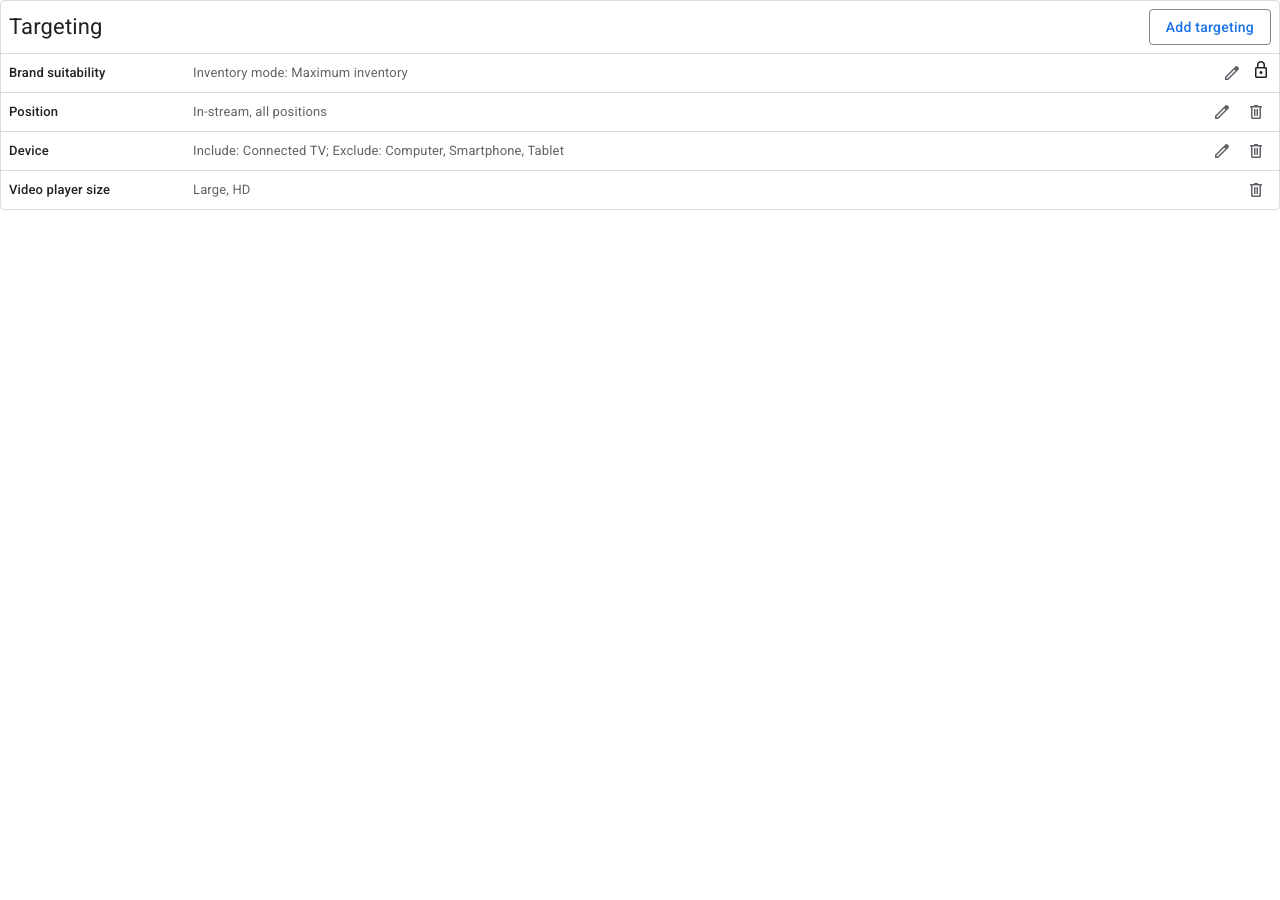
Test: TargetingCard › shows pre-added rows and adds a row from the menu with an "Added" mark
This screenshot has width=1280, height=900.
Expected: the list item with test id "target-row-DEVICE" is shown, x1=1 y1=131 x2=1279 y2=170
Step 1. Click the button "Add targeting" → point(1210, 27), box x1=1149 y1=9 x2=1271 y2=45
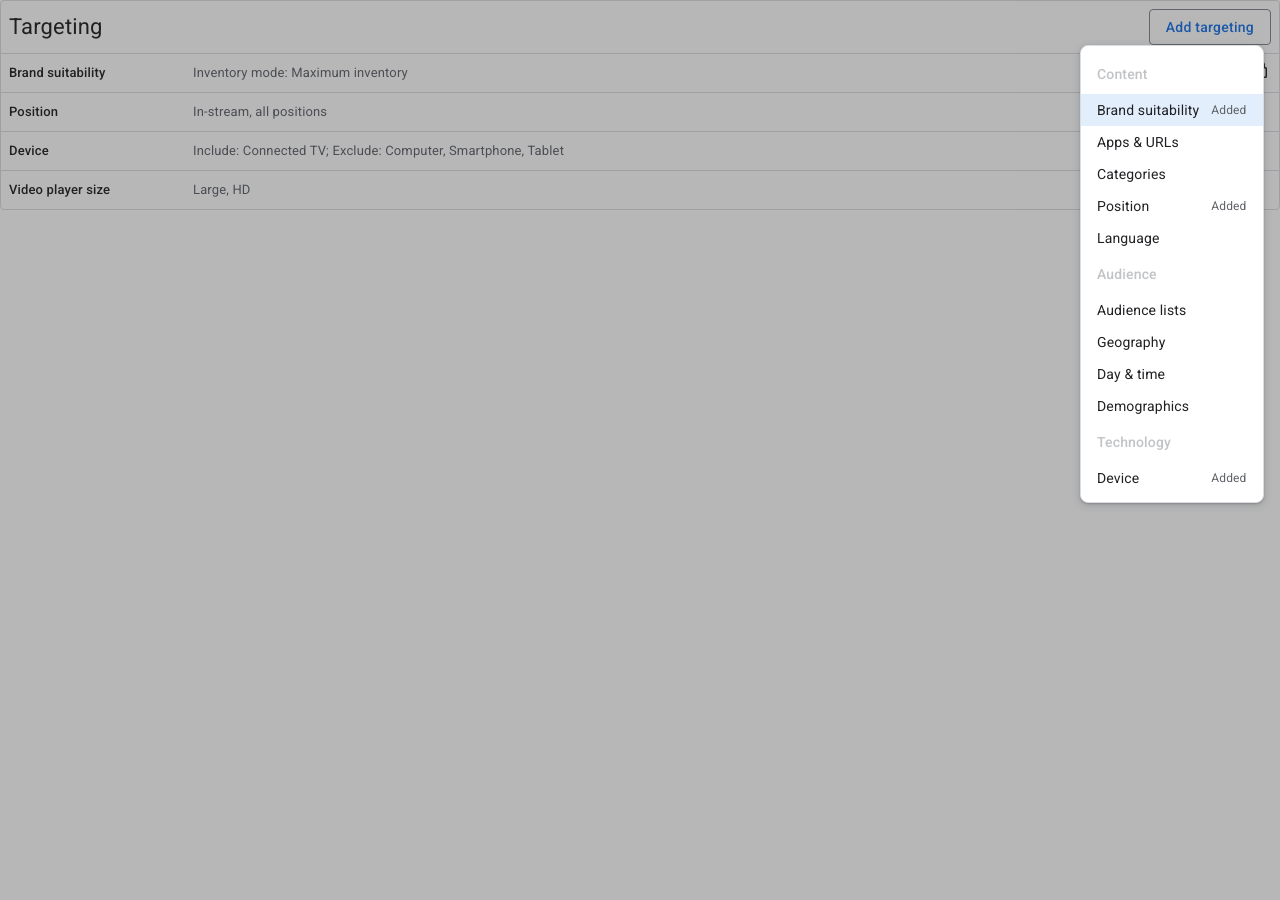
Step 2. Click the menu item "Language" → point(1128, 238), box x1=1097 y1=230 x2=1160 y2=246
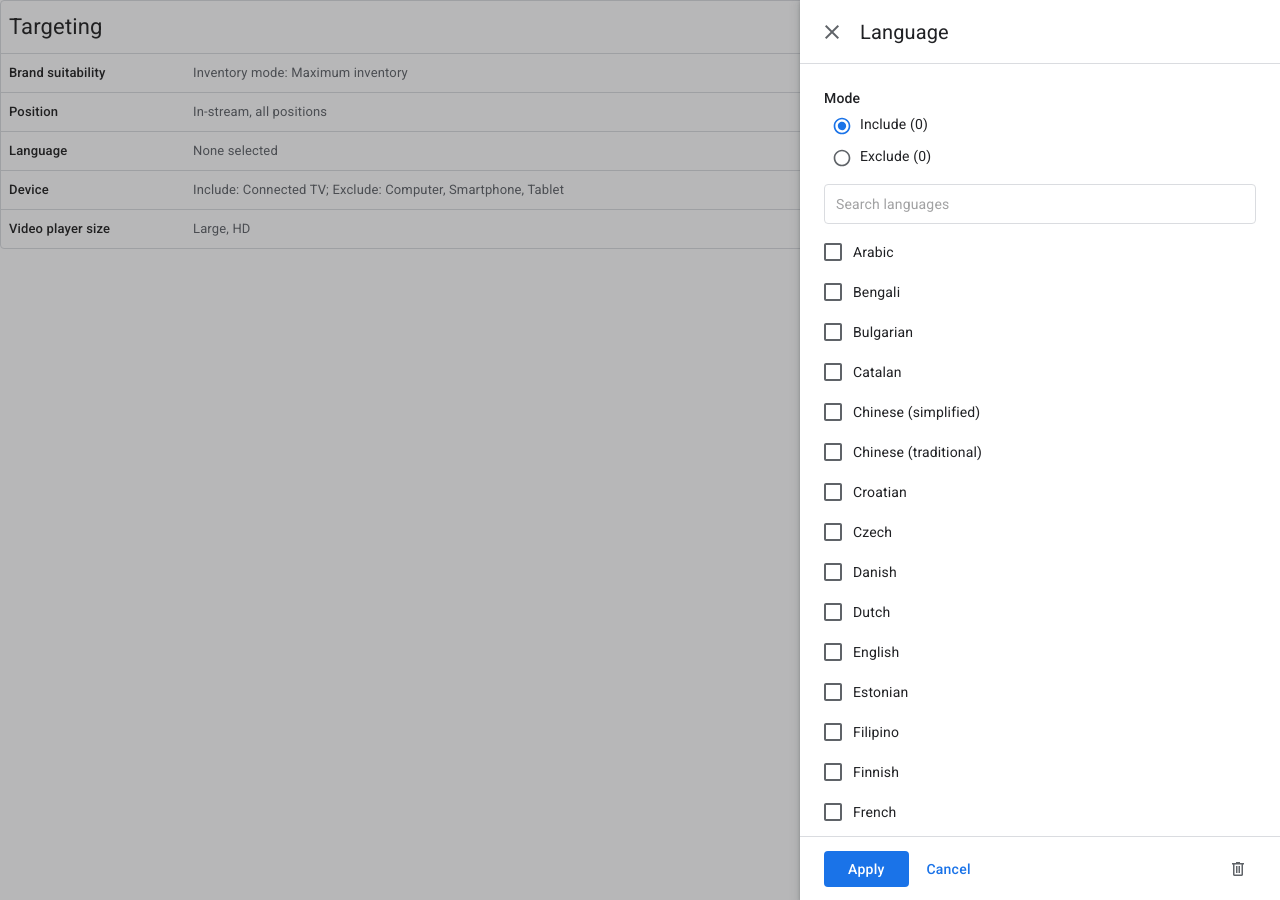
Now the dialog "Language" is shown, box x1=800 y1=0 x2=1279 y2=899
